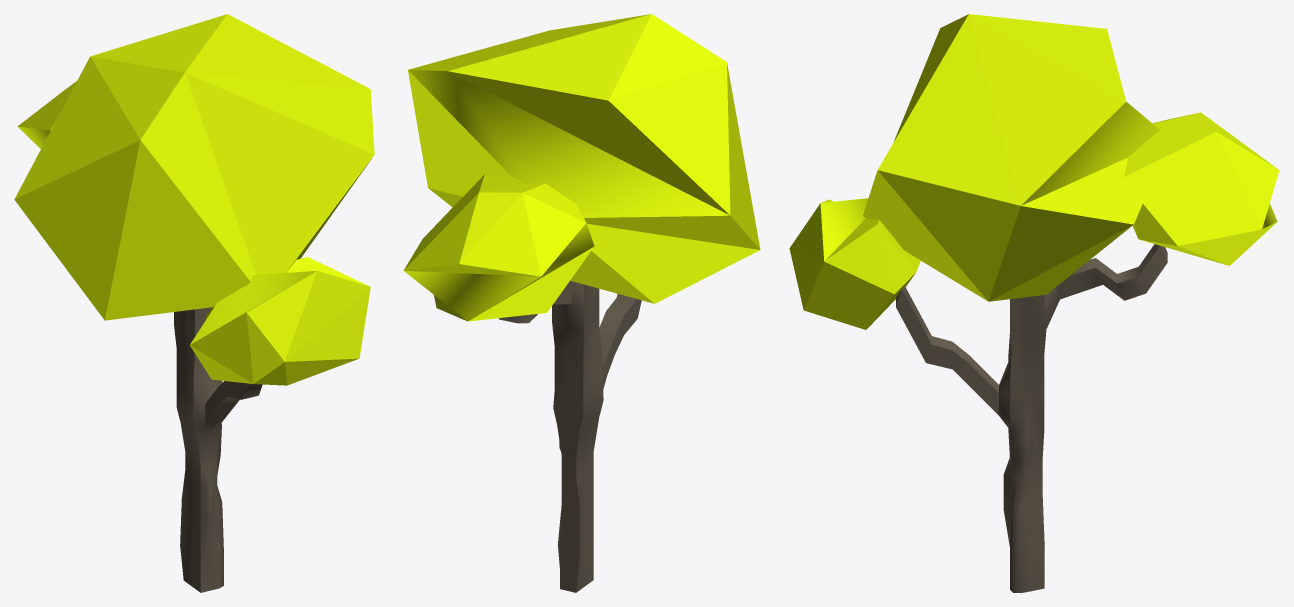
File: tree_maya_to_unity.fbx
3 views of the same model, side by side, from view 1: azimuth 30°, elevation 25°; view 2: azimuth 150°, elevation 25°; view 3: azimuth 270°, elevation 25° (orthographic). The views are drawn at different scales.
Parts seen in each view (by area): view 1: pSphere7, pSphere8, pCube3, pSphere6; view 2: pSphere7, pSphere6, pCube3; view 3: pSphere7, pCube3, pSphere6, pSphere8.
Part boxes in pixels (x1,y1,x2,y2): pSphere7: (14,14,374,320); pSphere8: (190,257,370,385); pCube3: (174,307,262,592); pSphere6: (17,81,76,148); pSphere7: (408,14,760,303); pSphere6: (403,174,594,321); pCube3: (499,281,641,592); pSphere7: (863,14,1159,301); pCube3: (896,244,1167,592); pSphere6: (1124,112,1279,265); pSphere8: (789,198,920,329).
Bounding box in the file's own units: 1.95 × 3.02 × 2.44.
